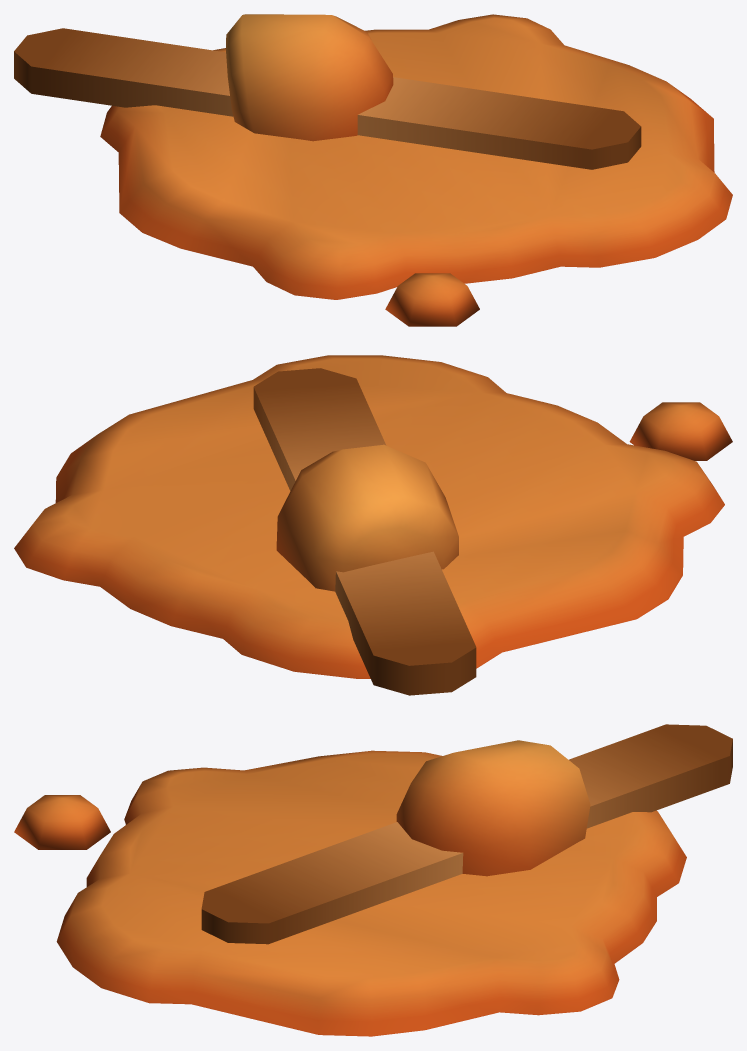
Rendered from m_SpilledPopsicle09.fbx.
3 renders of one model, top to bottom at view 1: azimuth 30°, elevation 25°; view 2: azimuth 150°, elevation 25°; view 3: azimuth 270°, elevation 25°, orthographic. The views are drawn at different scales.
Parts seen in each view (by area): view 1: m_SpilledPopsicle09; view 2: m_SpilledPopsicle09; view 3: m_SpilledPopsicle09.
Boxes of the visible parts, x1,y1,x2,y2 form: m_SpilledPopsicle09: [14, 14, 732, 326]; m_SpilledPopsicle09: [14, 355, 732, 695]; m_SpilledPopsicle09: [14, 724, 732, 1036].
Size of the model in its own units: 12.21 by 2.52 by 13.54.
